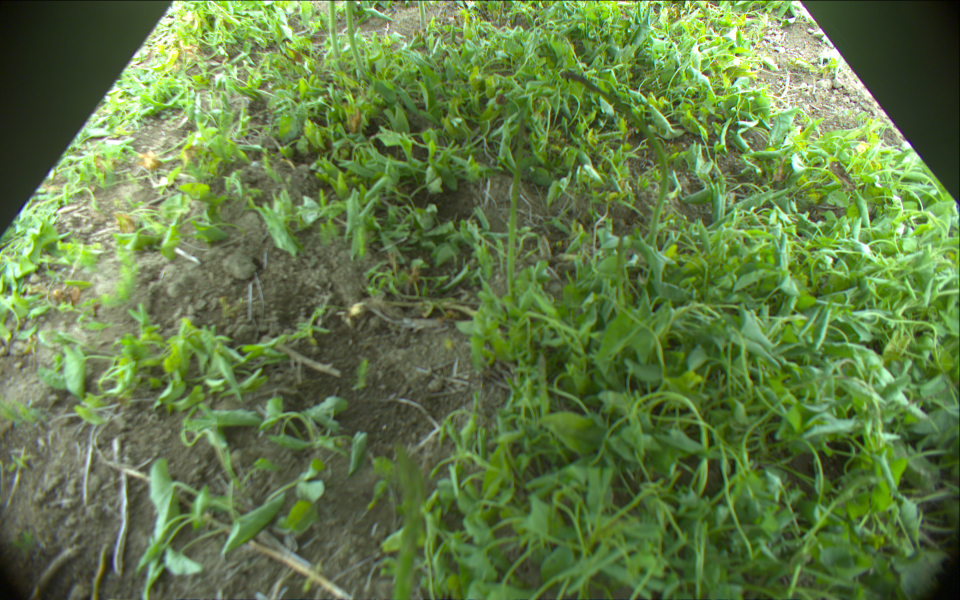aspa: (561, 71, 670, 256), (391, 443, 423, 600), (508, 116, 529, 297), (345, 1, 368, 77), (329, 1, 341, 59), (418, 1, 426, 34)
